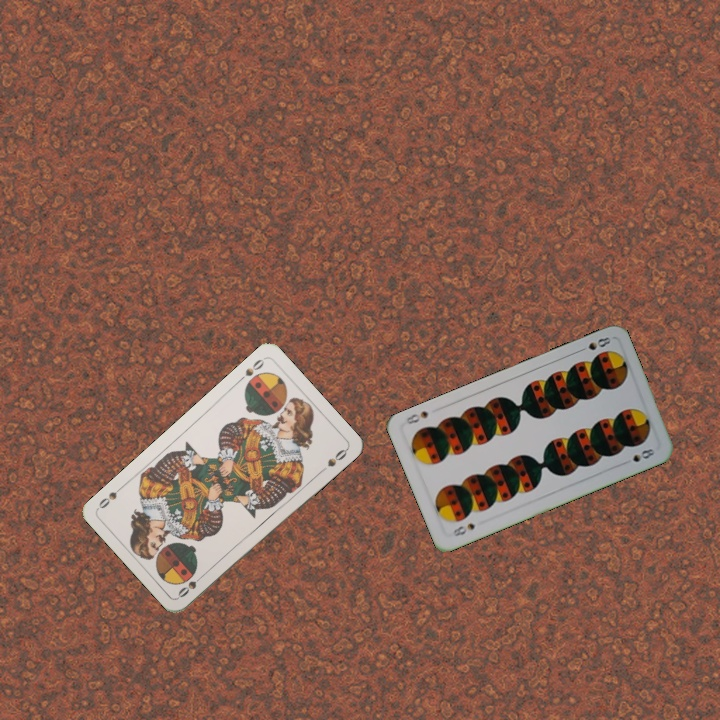S8: (574, 333, 613, 355), (449, 519, 478, 539)
SO: (174, 569, 208, 600), (234, 354, 267, 385)
